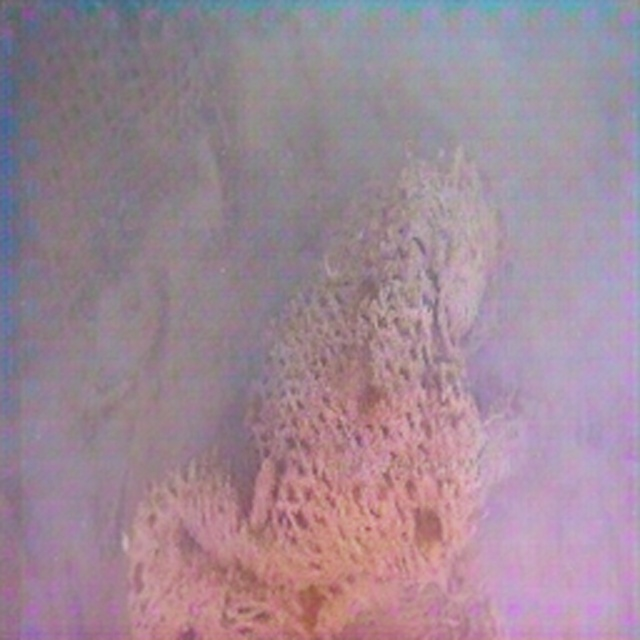mine: (124, 139, 532, 639), (0, 0, 229, 321)
